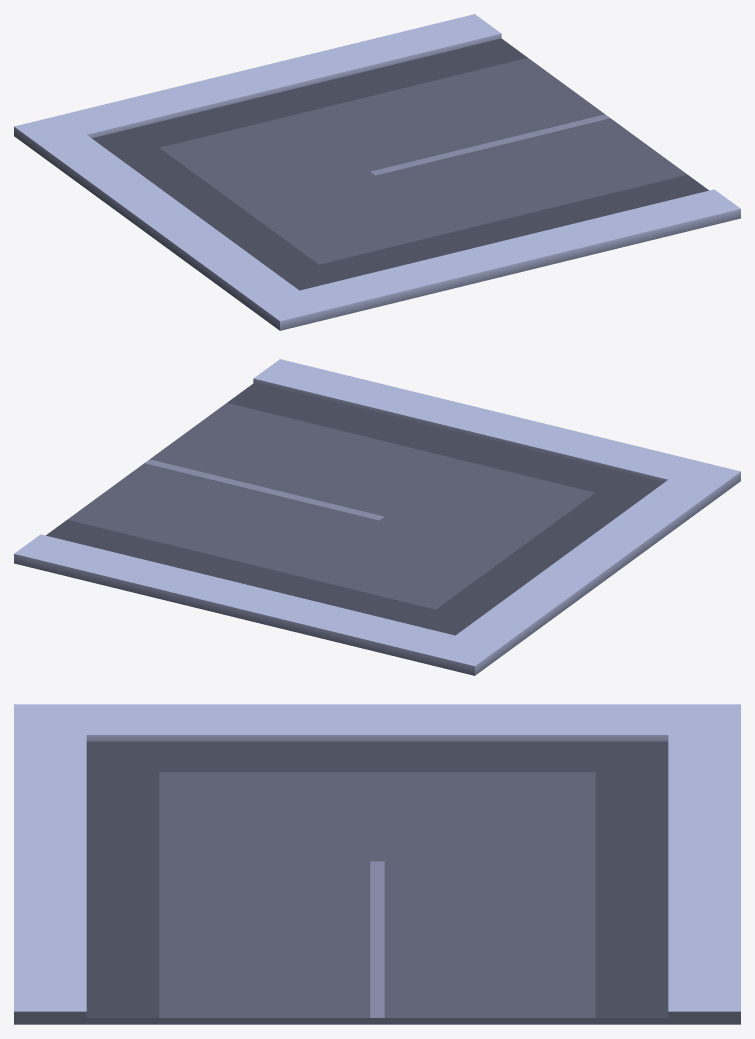
Rendered from road-end.glb.
3 renders of one model, top to bottom at view 1: azimuth 30°, elevation 25°; view 2: azimuth 150°, elevation 25°; view 3: azimuth 270°, elevation 25°, orthographic. The views are drawn at different scales.
Parts seen in each view (by area): view 1: road-end; view 2: road-end; view 3: road-end.
Boxes of the visible parts, box(x1,y1,x2,y2) form: road-end: box(14, 14, 740, 330); road-end: box(14, 359, 740, 675); road-end: box(14, 704, 740, 1024).
Size of the model in its own units: 1 by 0.02 by 1.
1 material, 1 textured.
